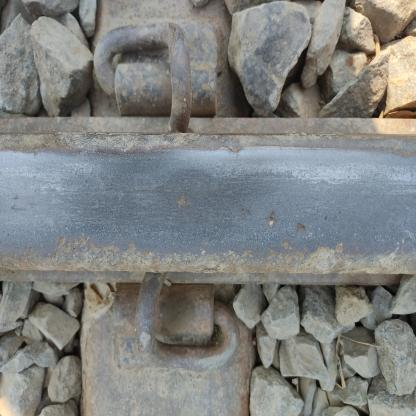Non Defective 1: (161, 26, 307, 168), (192, 273, 338, 415)
